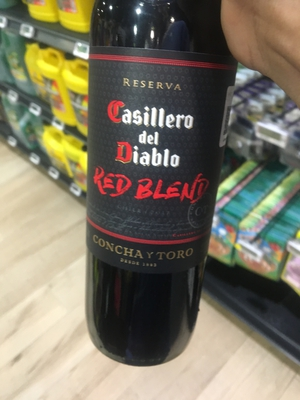casillero del diablo red blend: (71, 28, 246, 373)
